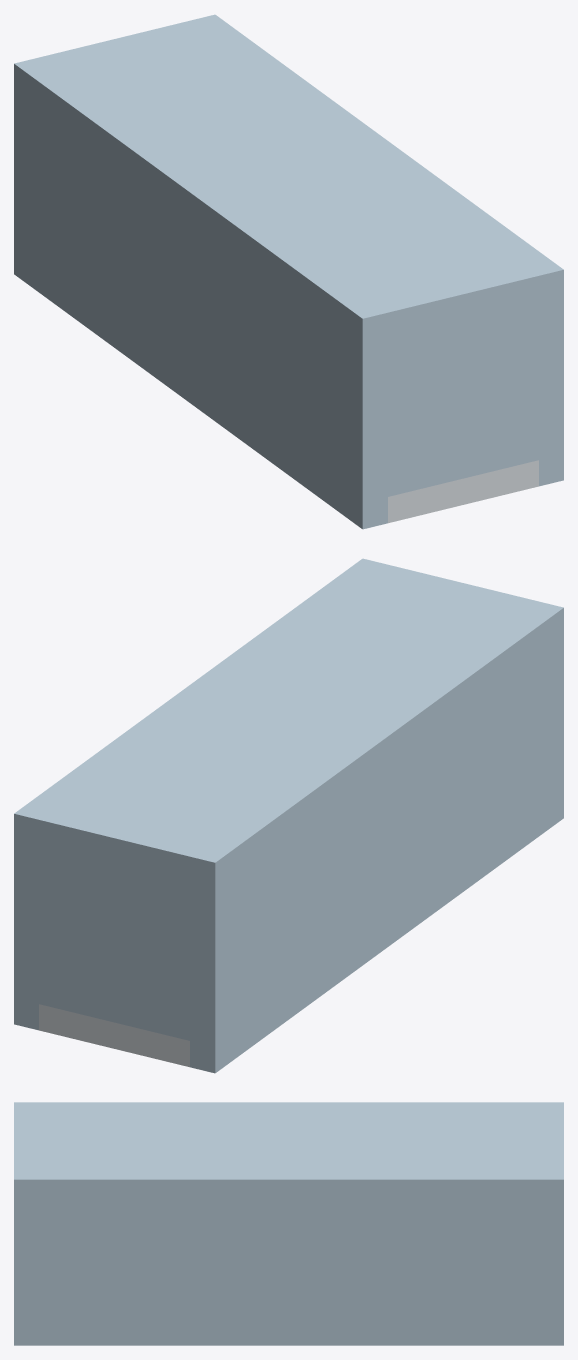
File: ice-chute.glb
3 renders of one model, top to bottom at view 1: azimuth 30°, elevation 25°; view 2: azimuth 150°, elevation 25°; view 3: azimuth 270°, elevation 25°, orthographic. The views are drawn at different scales.
Visible parts, largest first — view 1: ice-rock_5, ice-rock_1, plug_ice_south, ice-rock_2, snow_6, snow_5; view 2: ice-rock_5, ice-rock_1, plug_ice_north, ice-rock_2, snow_1; view 3: ice-rock_2, ice-rock_5.
Part boxes in pixels (box(x1,y1,x2,y2)): ice-rock_5: box(14, 14, 563, 344); ice-rock_1: box(14, 90, 387, 529); plug_ice_south: box(388, 302, 538, 496); ice-rock_2: box(539, 296, 563, 486); snow_6: box(388, 472, 488, 523); snow_5: box(488, 460, 538, 498); ice-rock_5: box(14, 558, 563, 888); ice-rock_1: box(190, 634, 563, 1073); plug_ice_north: box(39, 846, 189, 1040); ice-rock_2: box(14, 840, 38, 1030); snow_1: box(39, 1004, 189, 1067); ice-rock_2: box(14, 1200, 563, 1345); ice-rock_5: box(14, 1102, 563, 1200).
Bounding box in the file's own units: 4 × 4 × 12.
